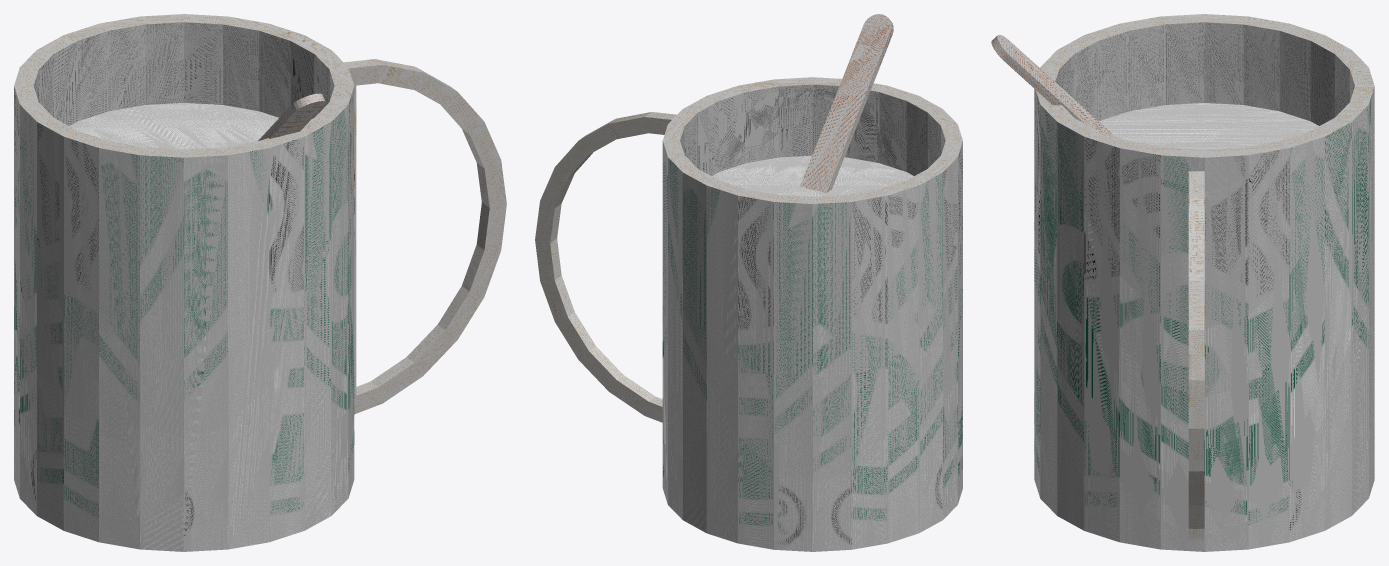
The picture shows the model from 3 angles, left to right: view 1: azimuth 30°, elevation 25°; view 2: azimuth 150°, elevation 25°; view 3: azimuth 270°, elevation 25°; orthographic projection. The views are drawn at different scales.
Parts seen in each view (by area): view 1: mesh1_mesh1-geometry, mesh2_mesh2-geometry; view 2: mesh1_mesh1-geometry, mesh2_mesh2-geometry; view 3: mesh1_mesh1-geometry, mesh2_mesh2-geometry.
Part boxes in pixels (x1=…): mesh1_mesh1-geometry: x1=14, y1=14, x2=506, y2=551; mesh2_mesh2-geometry: x1=258, y1=93, x2=325, y2=140; mesh1_mesh1-geometry: x1=535, y1=77, x2=962, y2=551; mesh2_mesh2-geometry: x1=800, y1=14, x2=893, y2=192; mesh1_mesh1-geometry: x1=1034, y1=14, x2=1374, y2=551; mesh2_mesh2-geometry: x1=991, y1=34, x2=1114, y2=135.
Bounding box in the file's own units: 0.6452 × 0.6075 × 0.4634.
